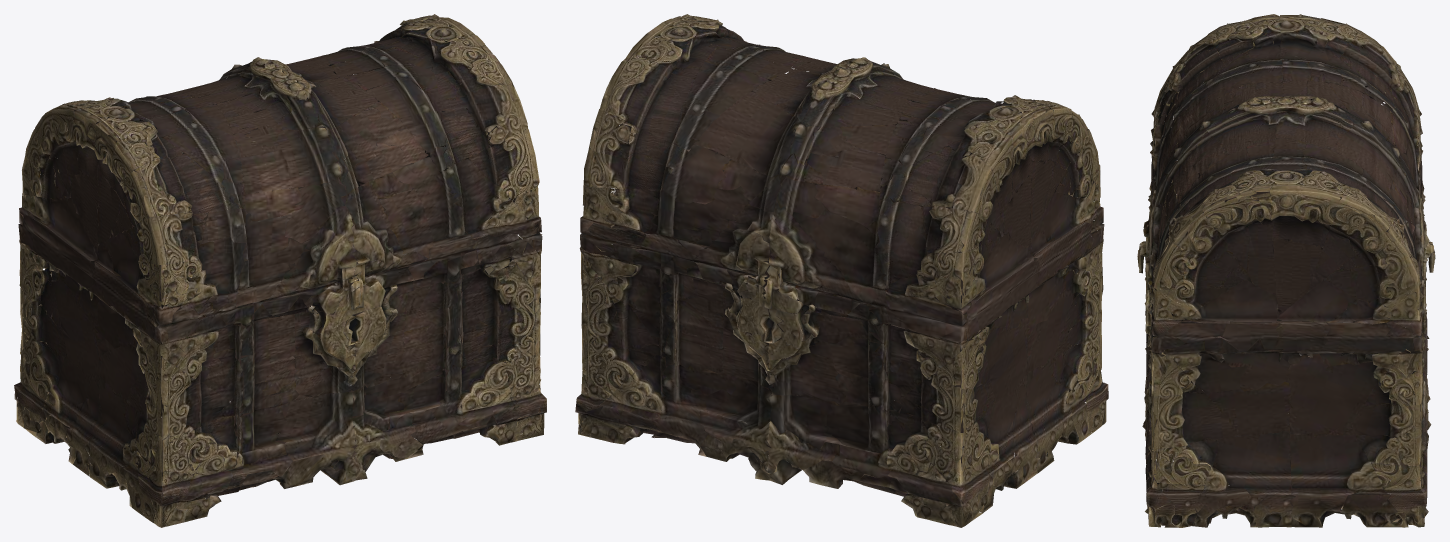
Rendered from chest.glb.
The picture shows the model from 3 angles, left to right: view 1: azimuth 30°, elevation 25°; view 2: azimuth 150°, elevation 25°; view 3: azimuth 270°, elevation 25°; orthographic projection. The views are drawn at different scales.
Visible parts, largest first — view 1: Mesh_0; view 2: Mesh_0; view 3: Mesh_0.
Part boxes in pixels (x1,y1,x2,y2): Mesh_0: (14, 14, 546, 527); Mesh_0: (575, 14, 1108, 527); Mesh_0: (1137, 14, 1435, 527).
Bounding box in the file's own units: 1 × 0.8788 × 0.6942.
Materials: 1 (1 with a texture image).
